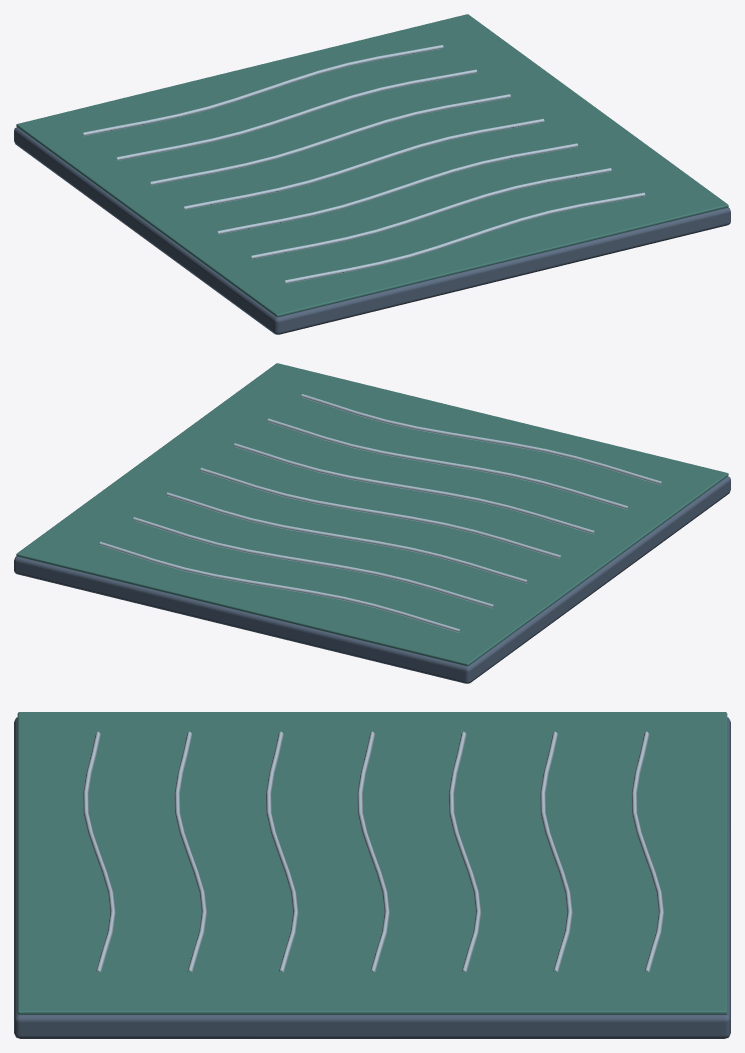
The model's file is moonsteel-convergence-jade-river-surface-cbc546ff__18185.glb.
The picture shows the model from 3 angles, top to bottom: view 1: azimuth 30°, elevation 25°; view 2: azimuth 150°, elevation 25°; view 3: azimuth 270°, elevation 25°; orthographic projection. The views are drawn at different scales.
Visible parts, largest first — view 1: jade-river-surface; view 2: jade-river-surface; view 3: jade-river-surface.
Boxes of the visible parts, x1,y1,x2,y2 form: jade-river-surface: [14, 14, 730, 334]; jade-river-surface: [14, 363, 730, 683]; jade-river-surface: [14, 712, 730, 1038].
Bounding box in the file's own units: 4 × 0.206 × 4.
